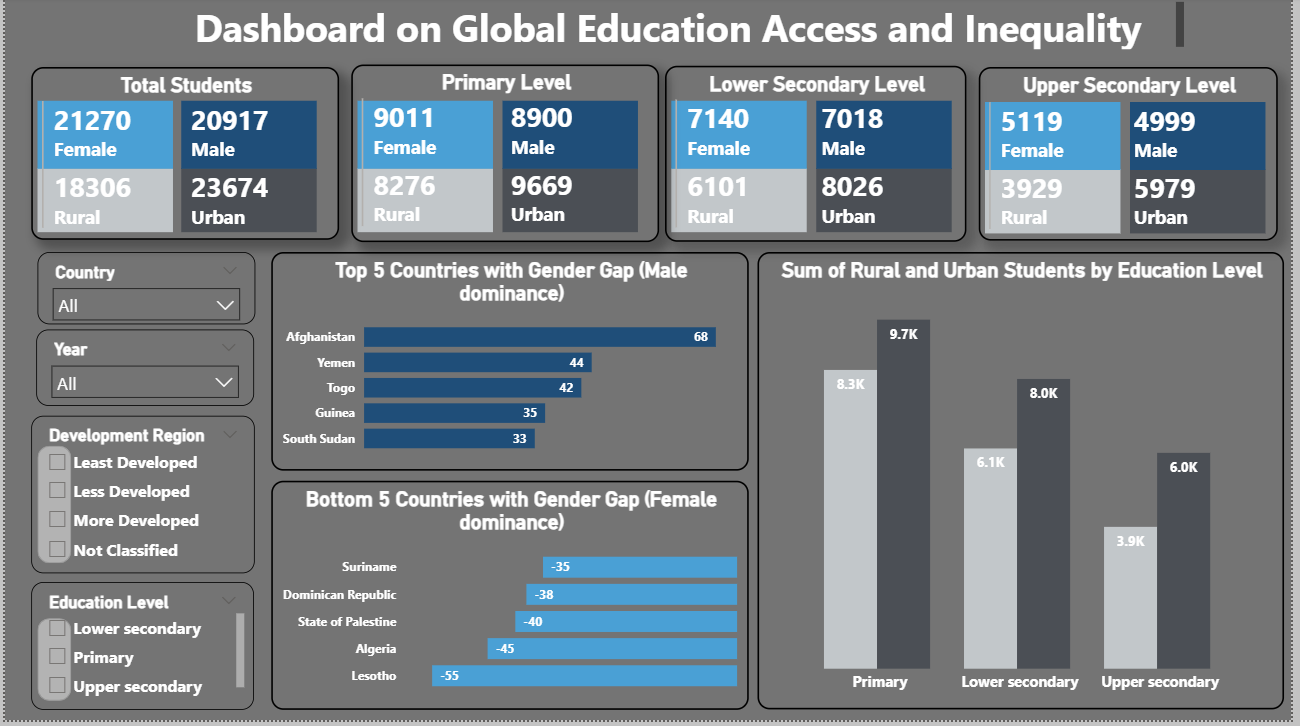

The dashboard page shown, as its layout file describes it:
{"tool":"powerbi","page":{"name":"Page 4","canvas":[1280,720],"ordinal":3},"visuals":[{"type":"shape","box":[494.5,170.9,134.8,63.6],"z":0,"group":"g1"},{"type":"shape","box":[32.3,618.2,33.6,82.1],"z":0},{"type":"shape","box":[350.8,170.9,134.8,63.6],"z":1000,"group":"g1"},{"type":"shape","box":[32.3,446.6,33.6,116.9],"z":1000},{"type":"group","id":"g1","title":"Group 2","box":[350.8,103.2,278.5,131.3],"z":2000},{"type":"shape","box":[494.5,103.2,134.8,67.7],"z":2000,"group":"g1"},{"type":"shape","box":[350.8,103.2,134.8,67.7],"z":3000,"group":"g1"},{"type":"shape","box":[806.7,170.9,134.8,63.6],"z":3000},{"type":"multiRowCard","title":"Primary Level","fields":{"Values":["AllLevels.Primary_Female","AllLevels.Primary_Male","AllLevels.Primary_Rural","AllLevels.Primary_Urban"]},"box":[344.5,67,306,176.6],"z":4000,"group":"g2"},{"type":"shape","box":[1119,172.2,134.8,63.6],"z":4000},{"type":"shape","box":[175.6,170.7,134.8,63.6],"z":5000},{"type":"shape","box":[663,170.9,134.8,63.6],"z":6000},{"type":"shape","box":[975.3,172.2,134.8,63.6],"z":7000},{"type":"shape","box":[31.9,170.7,134.8,63.6],"z":8000},{"type":"shape","box":[806.7,103.2,134.8,67.7],"z":9000},{"type":"shape","box":[1119,104.5,134.8,67.7],"z":10000},{"type":"shape","box":[663,103.2,134.8,67.7],"z":11000},{"type":"shape","box":[975.3,104.5,134.8,67.7],"z":12000},{"type":"shape","box":[175.6,103.1,134.8,67.7],"z":13000},{"type":"multiRowCard","title":"Lower Secondary Level","fields":{"Values":["AllLevels.LowerSec_Female","AllLevels.LowerSec_Male","AllLevels.LowerSec_Rural","AllLevels.LowerSec_Urban"]},"box":[656.7,68.4,299.8,175.4],"z":14000,"group":"g2"},{"type":"shape","box":[31.9,103.1,134.8,67.7],"z":14000},{"type":"group","id":"g2","title":"Group 1","box":[26,67,1240.2,176.8],"z":15000},{"type":"clusteredBarChart","title":"Top 5 Countries with Gender Gap (Male dominance)","fields":{"Category":["CountryLookup.Country"],"Y":["Sum(AllLevels.Gender Gap)"]},"box":[265,253.8,475.2,217.7],"z":16000},{"type":"multiRowCard","title":"Total Students","fields":{"Values":["Sum(AllLevels.Female)","Sum(AllLevels.Male)","Sum(AllLevels.Rural)","Sum(AllLevels.Urban)"]},"box":[26,69.4,306,171.7],"z":16500,"group":"g2"},{"type":"clusteredBarChart","title":"Bottom 5 Countries with Gender Gap (Female dominance)","fields":{"Category":["CountryLookup.Country"],"Y":["Sum(AllLevels.Gender Gap)"]},"box":[265,481.4,475.2,227.6],"z":17000},{"type":"clusteredColumnChart","title":"Sum of Rural and Urban Students by Education Level","fields":{"Category":["AllLevels.Education Level"],"Y":["Sum(AllLevels.Rural)","Sum(AllLevels.Urban)"]},"box":[748.9,253.8,523.7,455.3],"z":18000},{"type":"multiRowCard","title":"Upper Secondary Level ","fields":{"Values":["AllLevels.UpperSec_Female","AllLevels.UpperSec_Male","AllLevels.UpperSec_Rural","AllLevels.UpperSec_Urban"]},"box":[968.9,69.5,297.3,172.9],"z":19000,"group":"g2"},{"type":"slicer","fields":{"Values":["AllLevels.Country"]},"box":[32.3,253.8,216.4,72.1],"z":19000},{"type":"slicer","fields":{"Values":["AllLevels.Development Regions"]},"box":[26.1,416.7,222.7,156.7],"z":20000},{"type":"slicer","fields":{"Values":["AllLevels.Time period"]},"box":[31.1,330.9,216.4,75.9],"z":21000},{"type":"slicer","fields":{"Values":["AllLevels.Education Level"]},"box":[26.1,582.2,221.4,126.9],"z":22000},{"type":"textbox","box":[149.3,0,1028.8,57.2],"z":23000}]}

Visuals, with their boxes in screenshot pixels (x1, y1, x2, y2), scaled from the page's 1280x720 canvas onto the 1300x726 screenshot:
shape: (x1=502, y1=172, x2=639, y2=236)
shape: (x1=33, y1=623, x2=67, y2=706)
shape: (x1=356, y1=172, x2=493, y2=236)
shape: (x1=33, y1=450, x2=67, y2=568)
"Group 2" group: (x1=356, y1=104, x2=639, y2=236)
shape: (x1=502, y1=104, x2=639, y2=172)
shape: (x1=356, y1=104, x2=493, y2=172)
shape: (x1=819, y1=172, x2=956, y2=236)
"Primary Level" multiRowCard: (x1=350, y1=68, x2=661, y2=246)
shape: (x1=1136, y1=174, x2=1273, y2=238)
shape: (x1=178, y1=172, x2=315, y2=236)
shape: (x1=673, y1=172, x2=810, y2=236)
shape: (x1=991, y1=174, x2=1127, y2=238)
shape: (x1=32, y1=172, x2=169, y2=236)
shape: (x1=819, y1=104, x2=956, y2=172)
shape: (x1=1136, y1=105, x2=1273, y2=174)
shape: (x1=673, y1=104, x2=810, y2=172)
shape: (x1=991, y1=105, x2=1127, y2=174)
shape: (x1=178, y1=104, x2=315, y2=172)
"Lower Secondary Level" multiRowCard: (x1=667, y1=69, x2=971, y2=246)
shape: (x1=32, y1=104, x2=169, y2=172)
"Group 1" group: (x1=26, y1=68, x2=1286, y2=246)
"Top 5 Countries with Gender Gap (Male dominance)" clusteredBarChart: (x1=269, y1=256, x2=752, y2=475)
"Total Students" multiRowCard: (x1=26, y1=70, x2=337, y2=243)
"Bottom 5 Countries with Gender Gap (Female dominance)" clusteredBarChart: (x1=269, y1=485, x2=752, y2=715)
"Sum of Rural and Urban Students by Education Level" clusteredColumnChart: (x1=761, y1=256, x2=1292, y2=715)
"Upper Secondary Level " multiRowCard: (x1=984, y1=70, x2=1286, y2=244)
slicer - AllLevels.Country: (x1=33, y1=256, x2=253, y2=329)
slicer - AllLevels.Development Regions: (x1=27, y1=420, x2=253, y2=578)
slicer - AllLevels.Time period: (x1=32, y1=334, x2=251, y2=410)
slicer - AllLevels.Education Level: (x1=27, y1=587, x2=251, y2=715)
textbox: (x1=152, y1=0, x2=1197, y2=58)
